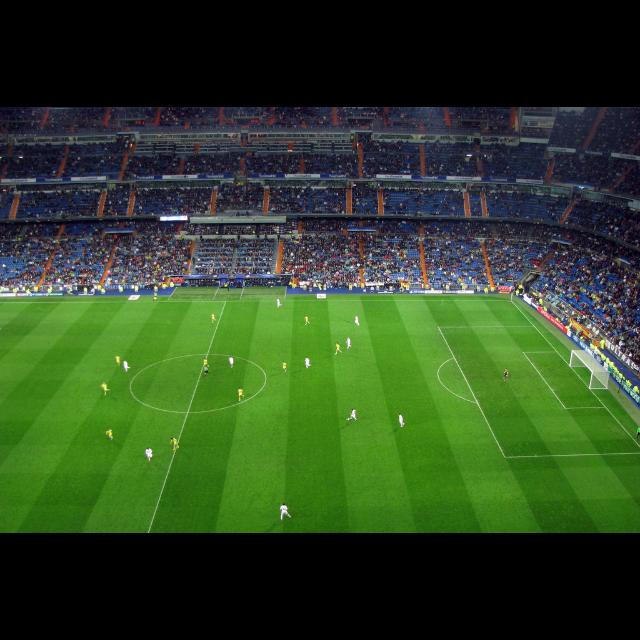Football: (346, 418, 350, 420)
